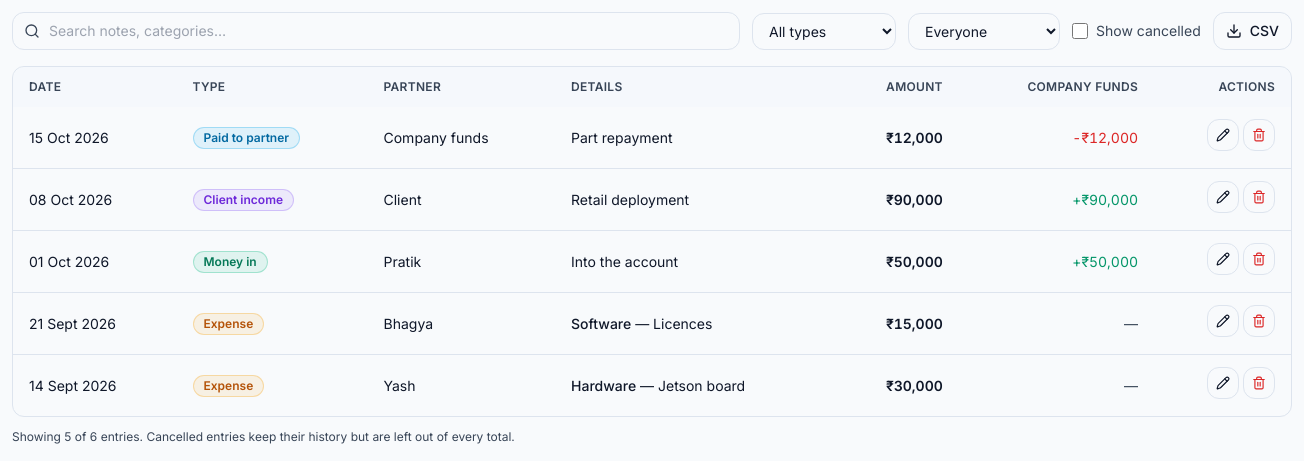
Scenario: FundLedgerTable › searches notes, categories, partner names and types
In the field named "Search entries": x=376, y=31 left=12, top=12, right=740, bottom=50, type "jetson"
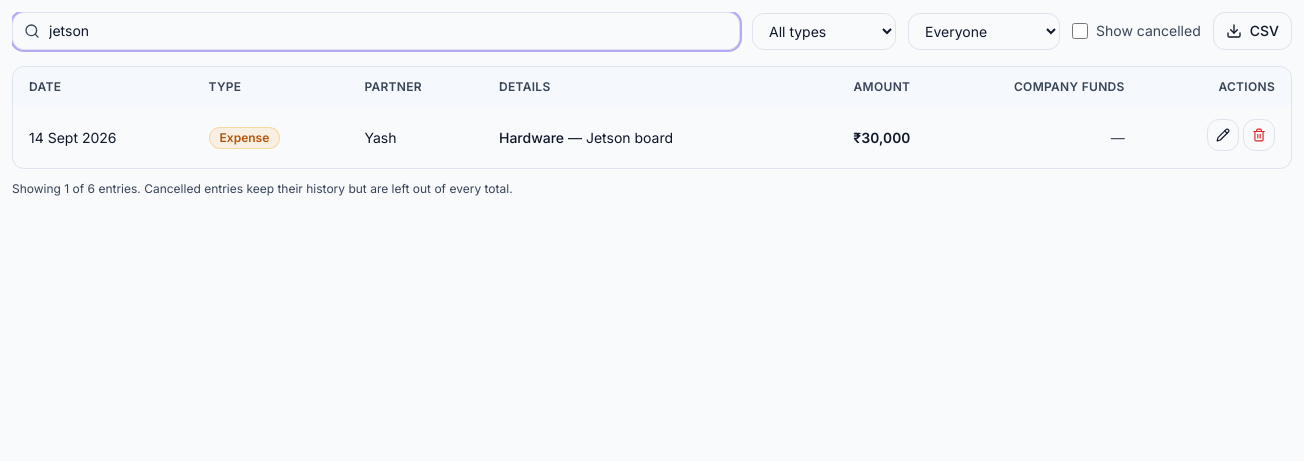
Replace the text in the field named "Search entries" with "Software": x=376, y=31 left=12, top=12, right=740, bottom=50
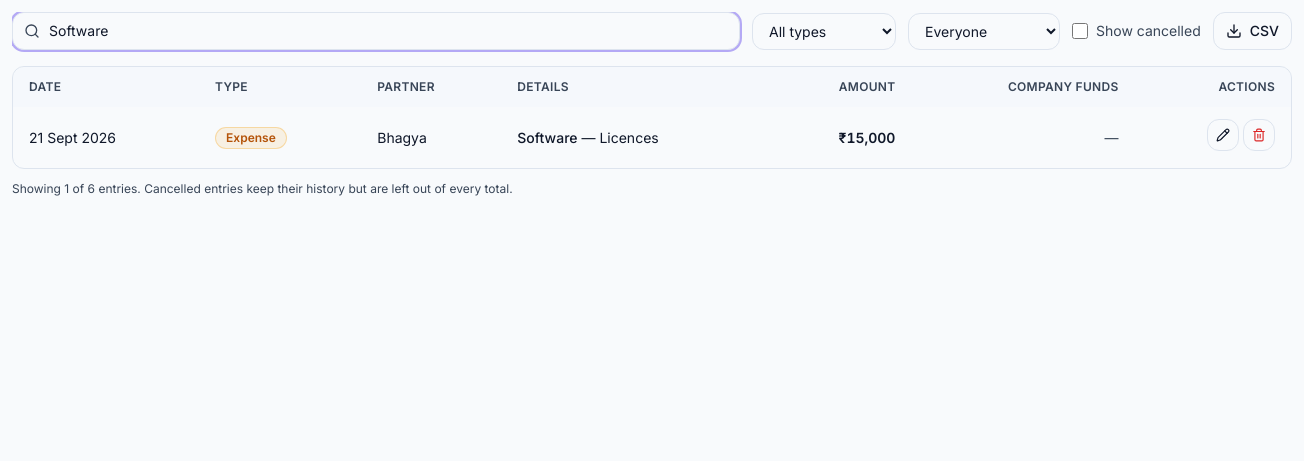
Replace the text in the field named "Search entries" with "pratik": x=376, y=31 left=12, top=12, right=740, bottom=50
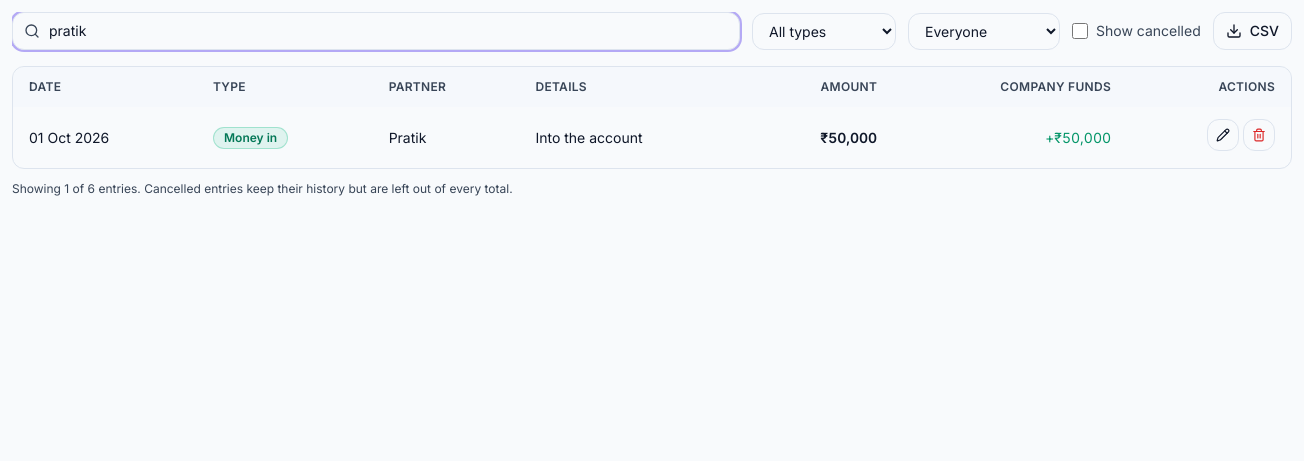
Replace the text in the field named "Search entries" with "zzz-nothing": x=376, y=31 left=12, top=12, right=740, bottom=50
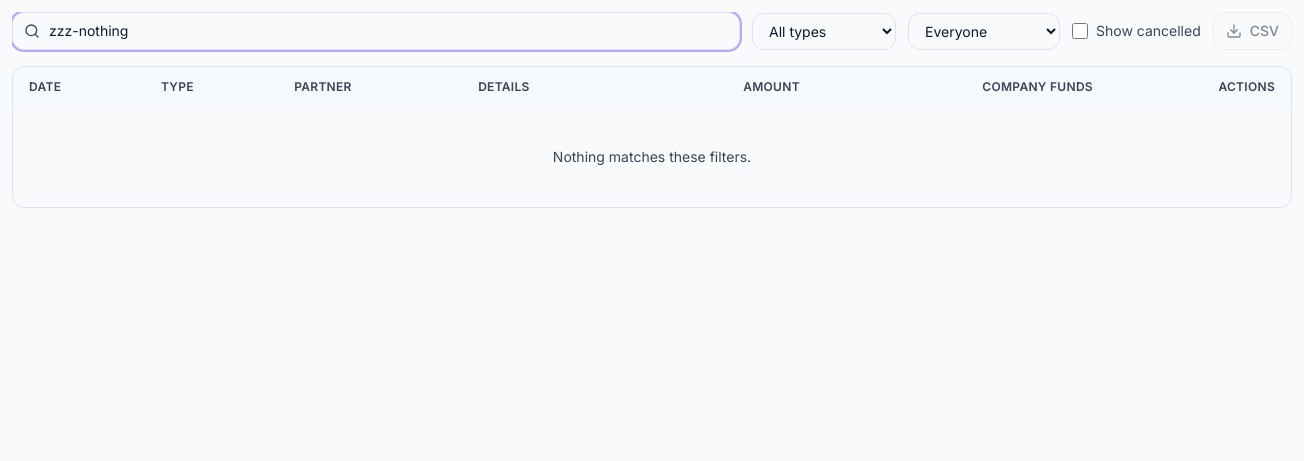
Now the text "Nothing matches these filters." is shown, box left=13, top=107, right=1291, bottom=207
